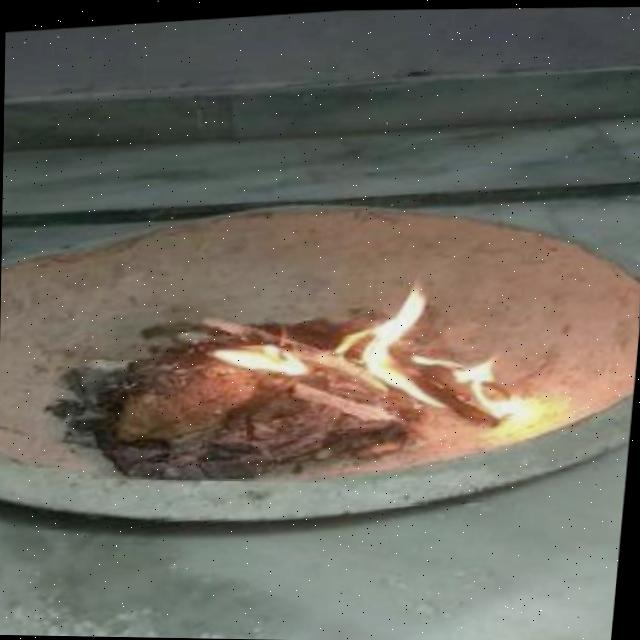fire: (185, 278, 552, 449)
